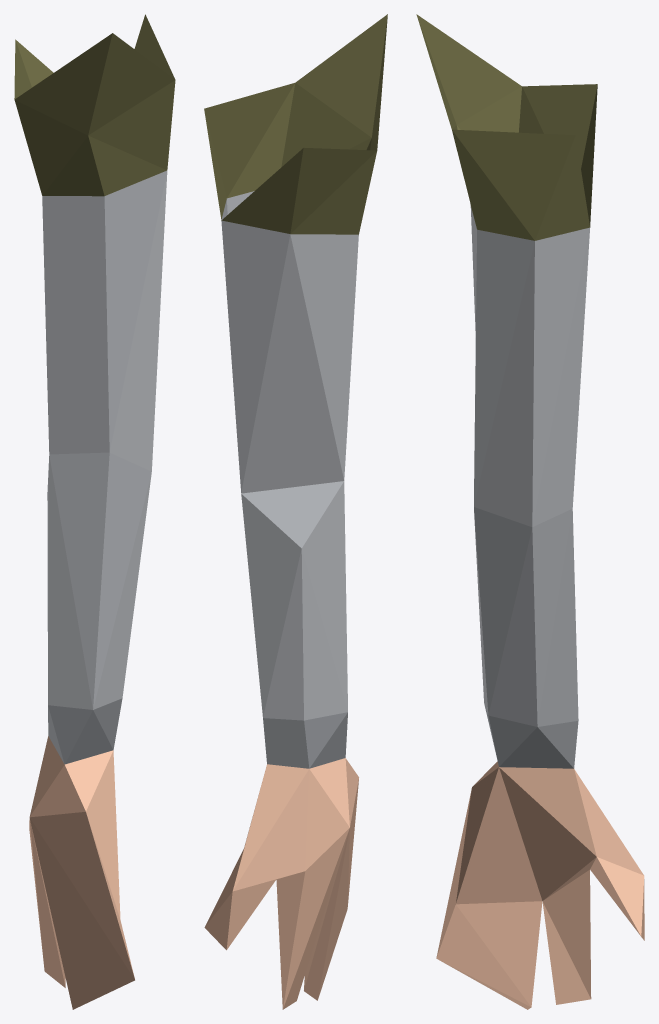
The model's file is ArmL_Lo.obj.
The picture shows the model from 3 angles, left to right: view 1: azimuth 30°, elevation 25°; view 2: azimuth 150°, elevation 25°; view 3: azimuth 270°, elevation 25°; orthographic projection. The views are drawn at different scales.
Size of the model in its own units: 0.1471 by 0.9071 by 0.19.
Materials: 1 (1 with a texture image).
